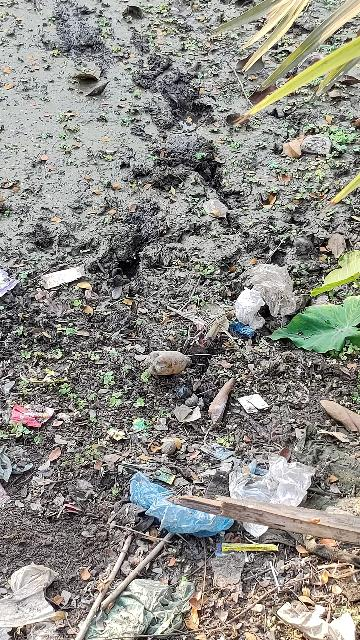bottle: (143, 345, 193, 381)
